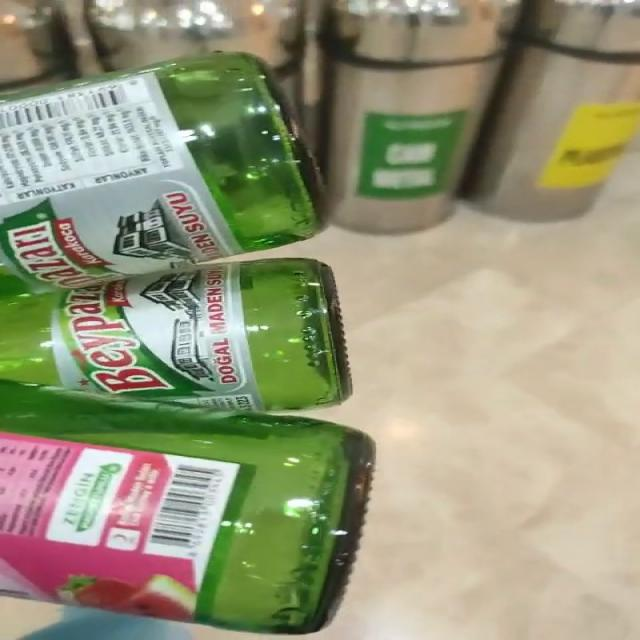glass: (1, 52, 375, 635)
